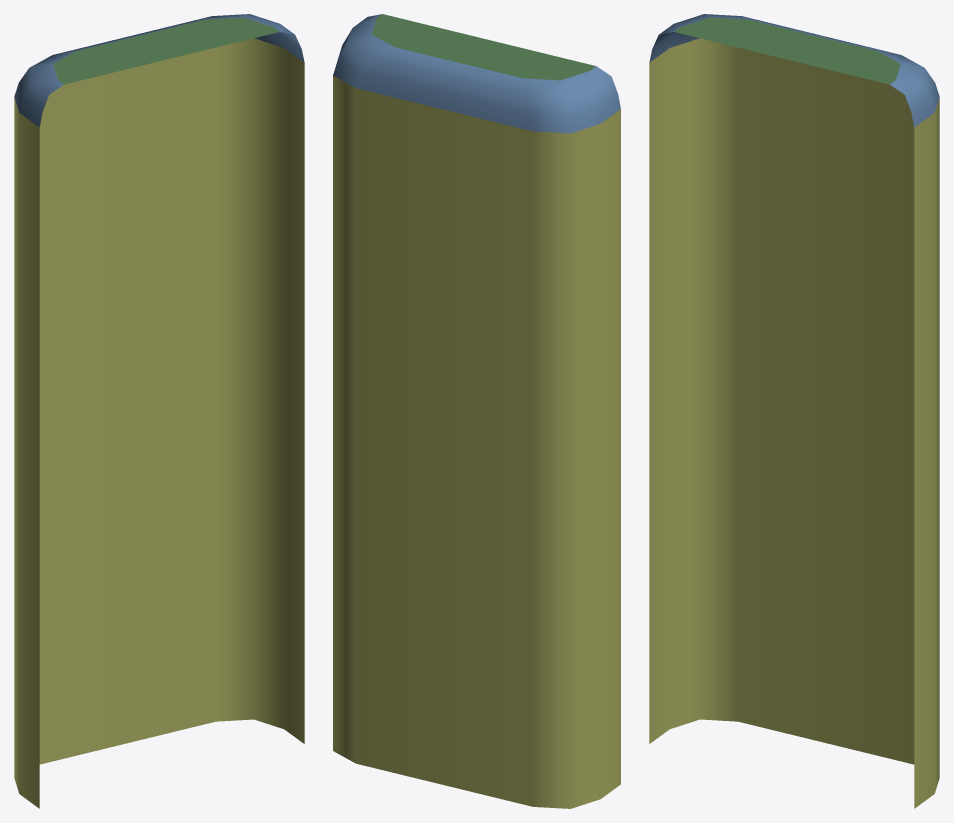
The model's file is Mini_PLat5.fbx.
The picture shows the model from 3 angles, left to right: view 1: azimuth 30°, elevation 25°; view 2: azimuth 150°, elevation 25°; view 3: azimuth 330°, elevation 25°; orthographic projection.
Parts seen in each view (by area): view 1: Mini_Plat1, Ground2, Wall2; view 2: Mini_Plat1, Wall2, Ground2; view 3: Mini_Plat1, Ground2, Wall2.
Part boxes in pixels (<box>): Mini_Plat1: <box>14,38,304,808</box>; Ground2: <box>53,17,279,84</box>; Wall2: <box>14,14,304,127</box>; Mini_Plat1: <box>333,75,620,808</box>; Wall2: <box>333,14,620,133</box>; Ground2: <box>371,14,595,80</box>; Mini_Plat1: <box>649,38,939,808</box>; Ground2: <box>674,17,900,84</box>; Wall2: <box>649,14,939,127</box>.
Size of the model in its own units: 5001 by 12956 by 1484.
